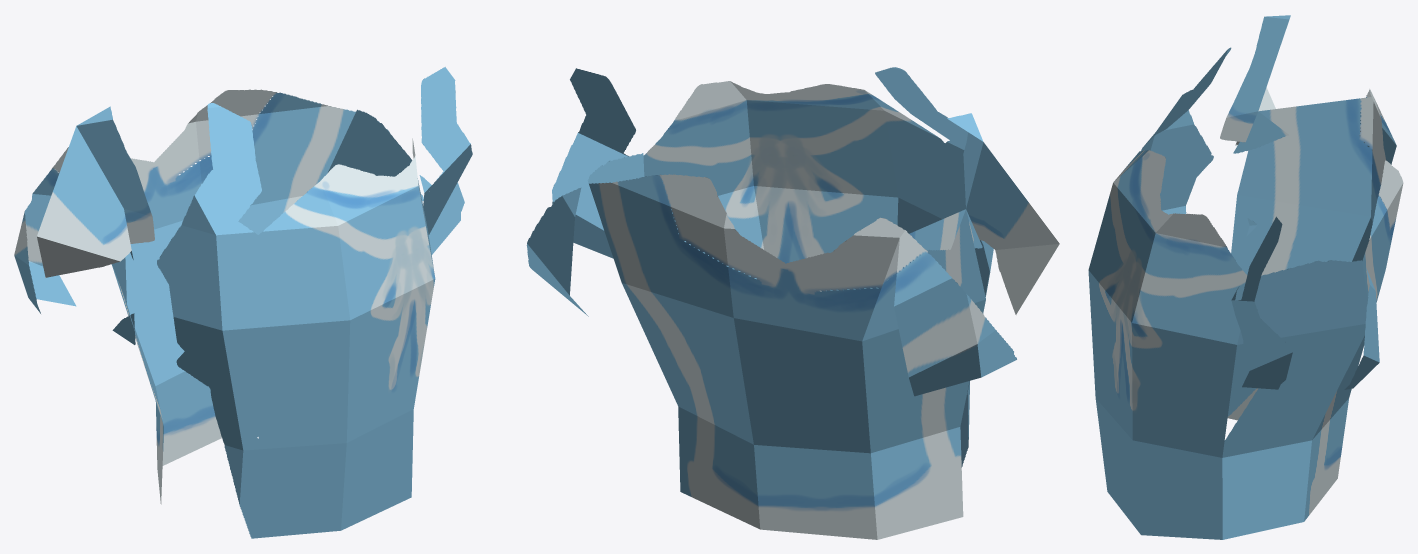
File: blouse_Alice.fbx
3 views of the same model, side by side, from view 1: azimuth 30°, elevation 25°; view 2: azimuth 150°, elevation 25°; view 3: azimuth 270°, elevation 25° (orthographic). The views are drawn at different scales.
Parts seen in each view (by area): view 1: Blouse; view 2: Blouse; view 3: Blouse.
Part boxes in pixels (<box>): Blouse: <box>14,67,472,538</box>; Blouse: <box>526,67,1059,539</box>; Blouse: <box>1088,15,1403,539</box>.
Bounding box in the file's own units: 94.07 × 85.9 × 55.58.
